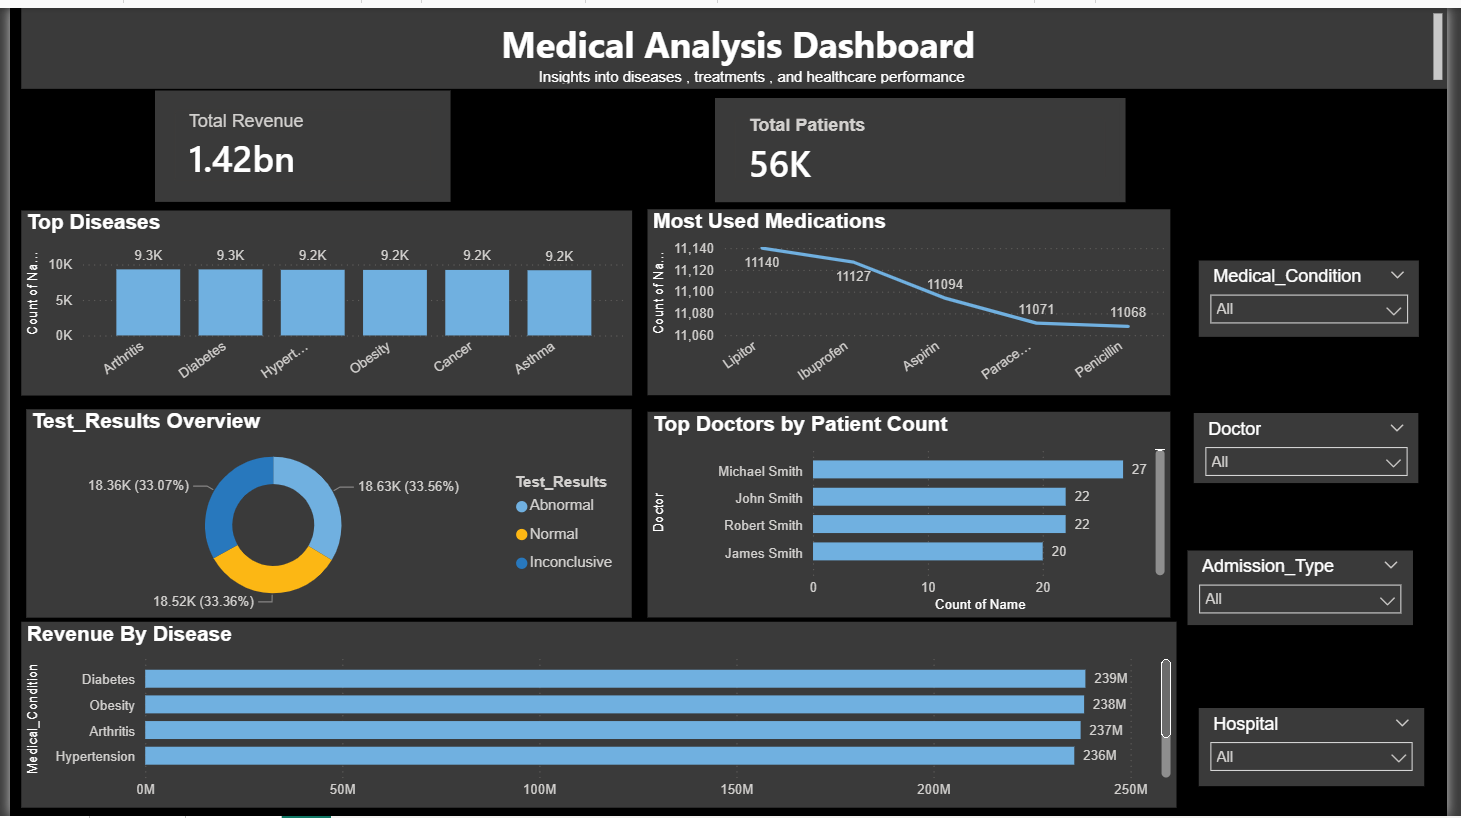

The dashboard page shown, as its layout file describes it:
{"tool":"powerbi","page":{"name":"Page 3","canvas":[1280,720],"ordinal":2},"visuals":[{"type":"textbox","box":[9.7,0,1270.4,72.4],"z":0},{"type":"columnChart","title":"Top Diseases","fields":{"Category":["Healthcare_data.Medical_Condition"],"Y":["CountNonNull(Healthcare_data.Name)"]},"box":[10.1,180.3,543.9,164.5],"z":1000},{"type":"lineChart","title":"Most Used Medications","fields":{"Category":["Healthcare_data.Medication"],"Y":["CountNonNull(Healthcare_data.Name)"]},"box":[568.2,179.8,465.7,165.3],"z":2000},{"type":"donutChart","title":" Test_Results Overview","fields":{"Category":["Healthcare_data.Test_Results"],"Y":["CountNonNull(Healthcare_data.Name)"]},"box":[14.5,357.1,539.3,185.8],"z":3000},{"type":"clusteredBarChart","title":"Top Doctors by Patient Count","fields":{"Category":["Healthcare_data.Doctor"],"Y":["CountNonNull(Healthcare_data.Name)"]},"box":[568.2,359.5,465.7,183.4],"z":4000},{"type":"clusteredBarChart","title":"Revenue By Disease","fields":{"Category":["Healthcare_data.Medical_Condition"],"Y":["Sum(Healthcare_data.Billing_Amount)"]},"box":[10.1,546.8,1028.7,165.9],"z":5000},{"type":"slicer","fields":{"Values":["Healthcare_data.Medical_Condition"]},"box":[1059,225.1,196.2,67.8],"z":6000},{"type":"slicer","fields":{"Values":["Healthcare_data.Doctor"]},"box":[1054.4,360.7,200.3,62.7],"z":7000},{"type":"slicer","fields":{"Values":["Healthcare_data.Admission_Type"]},"box":[1048.9,483.3,200.5,66.4],"z":8000},{"type":"slicer","fields":{"Values":["Healthcare_data.Hospital"]},"box":[1059,623.3,200.5,69.3],"z":9000},{"type":"cardVisual","fields":{"Data":["Healthcare_data.Total Revenue"]},"box":[159.2,75.7,395.2,99.1],"z":10000},{"type":"cardVisual","fields":{"Data":["Healthcare_data.Total Patients"]},"box":[567.7,79,365.1,92.4],"z":11000}]}

Visuals, with their boxes in screenshot pixels (x1, y1, x2, y2), scaled from the page's 1280x720 canvas onto the 1461x818 screenshot:
textbox: bbox=[11, 0, 1460, 82]
"Top Diseases" columnChart: bbox=[12, 205, 632, 392]
"Most Used Medications" lineChart: bbox=[649, 204, 1180, 392]
" Test_Results Overview" donutChart: bbox=[17, 406, 632, 617]
"Top Doctors by Patient Count" clusteredBarChart: bbox=[649, 408, 1180, 617]
"Revenue By Disease" clusteredBarChart: bbox=[12, 621, 1186, 810]
slicer - Healthcare_data.Medical_Condition: bbox=[1209, 256, 1433, 333]
slicer - Healthcare_data.Doctor: bbox=[1203, 410, 1432, 481]
slicer - Healthcare_data.Admission_Type: bbox=[1197, 549, 1426, 625]
slicer - Healthcare_data.Hospital: bbox=[1209, 708, 1438, 787]
cardVisual - Healthcare_data.Total Revenue: bbox=[182, 86, 633, 199]
cardVisual - Healthcare_data.Total Patients: bbox=[648, 90, 1065, 195]
